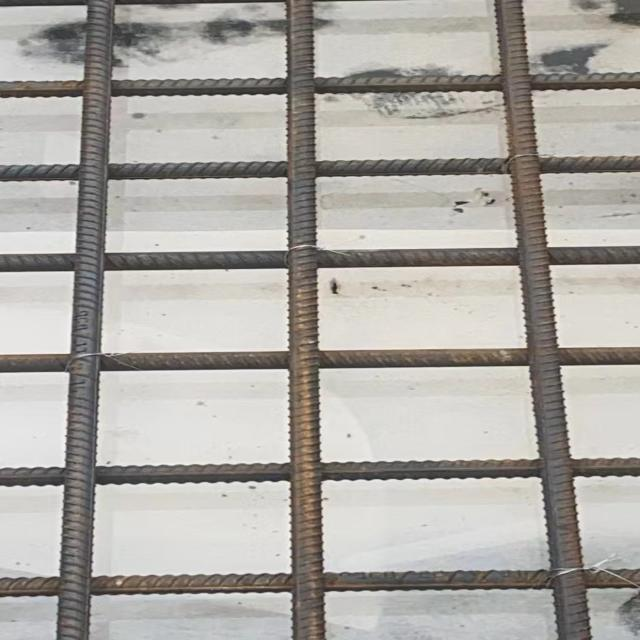ribbed bar: (492, 0, 594, 639), (52, 0, 114, 639), (286, 0, 327, 639), (0, 456, 638, 488), (0, 71, 638, 100), (0, 568, 638, 597), (0, 154, 638, 181), (0, 245, 638, 272), (0, 346, 638, 372)
